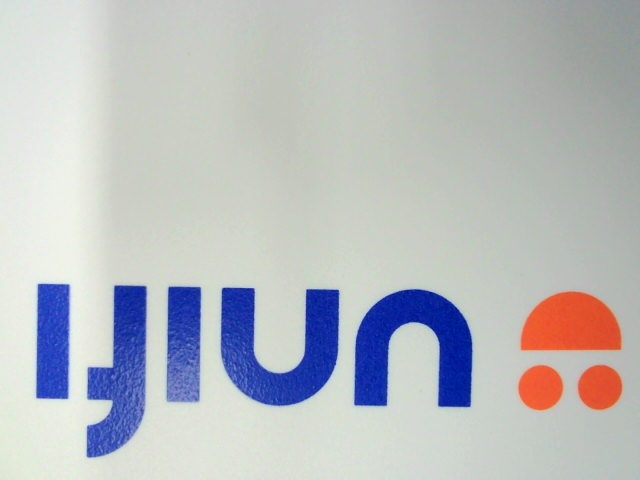BN_unifi: (31, 277, 622, 456)
